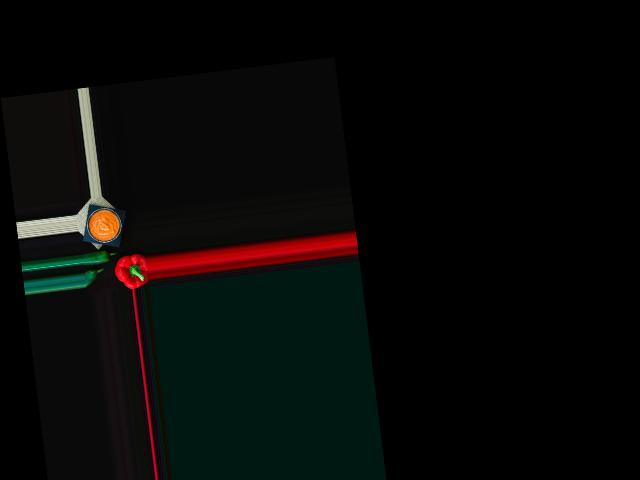bell_pepper: (114, 252, 148, 289)
